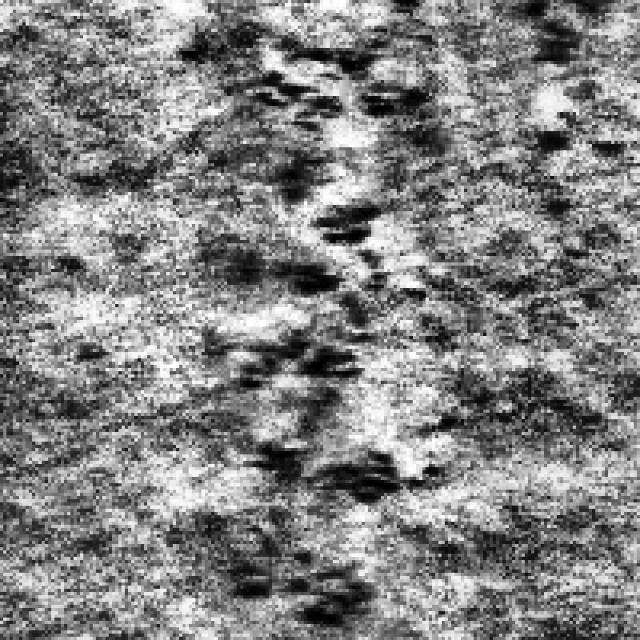Crazing: (198, 131, 432, 483), (224, 432, 400, 634), (244, 3, 426, 198), (512, 0, 627, 160)
